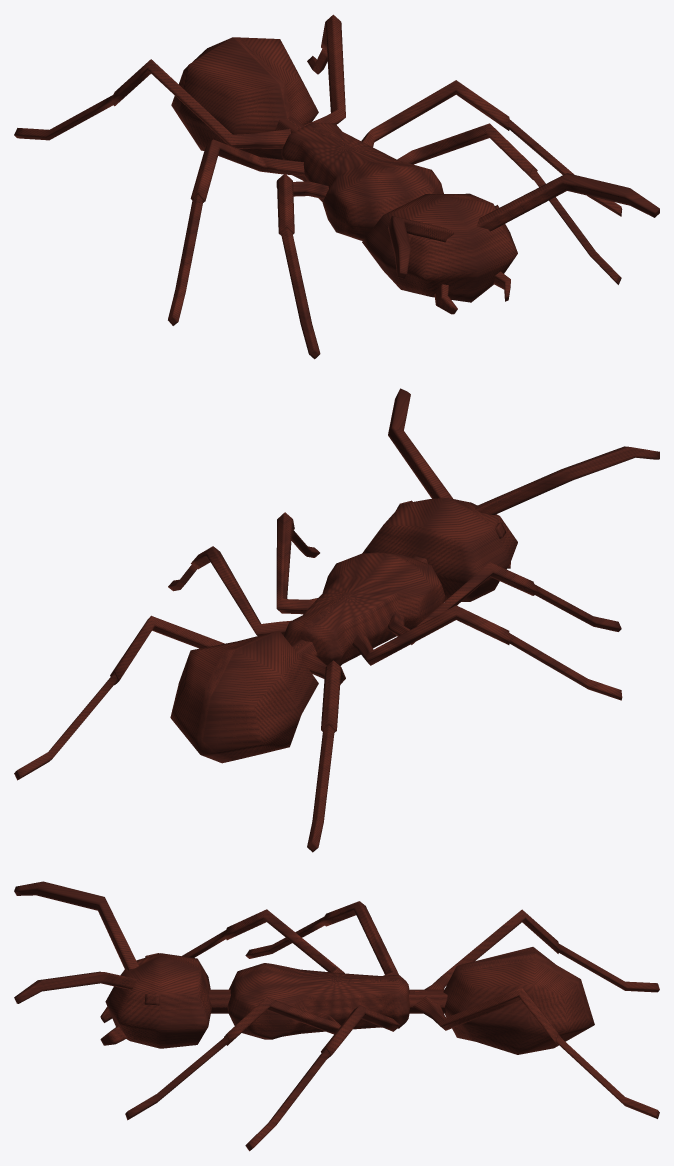
The model's file is ant.glb.
The picture shows the model from 3 angles, top to bottom: view 1: azimuth 30°, elevation 25°; view 2: azimuth 150°, elevation 25°; view 3: azimuth 270°, elevation 25°; orthographic projection. The views are drawn at different scales.
Parts seen in each view (by area): view 1: Geo_Ant; view 2: Geo_Ant; view 3: Geo_Ant.
Part boxes in pixels (x1,y1,x2,y2): Geo_Ant: [14, 14, 659, 359]; Geo_Ant: [14, 388, 659, 852]; Geo_Ant: [14, 881, 659, 1151].
Bounding box in the file's own units: 49.32 × 14.72 × 69.04.
1 material, 1 textured.
